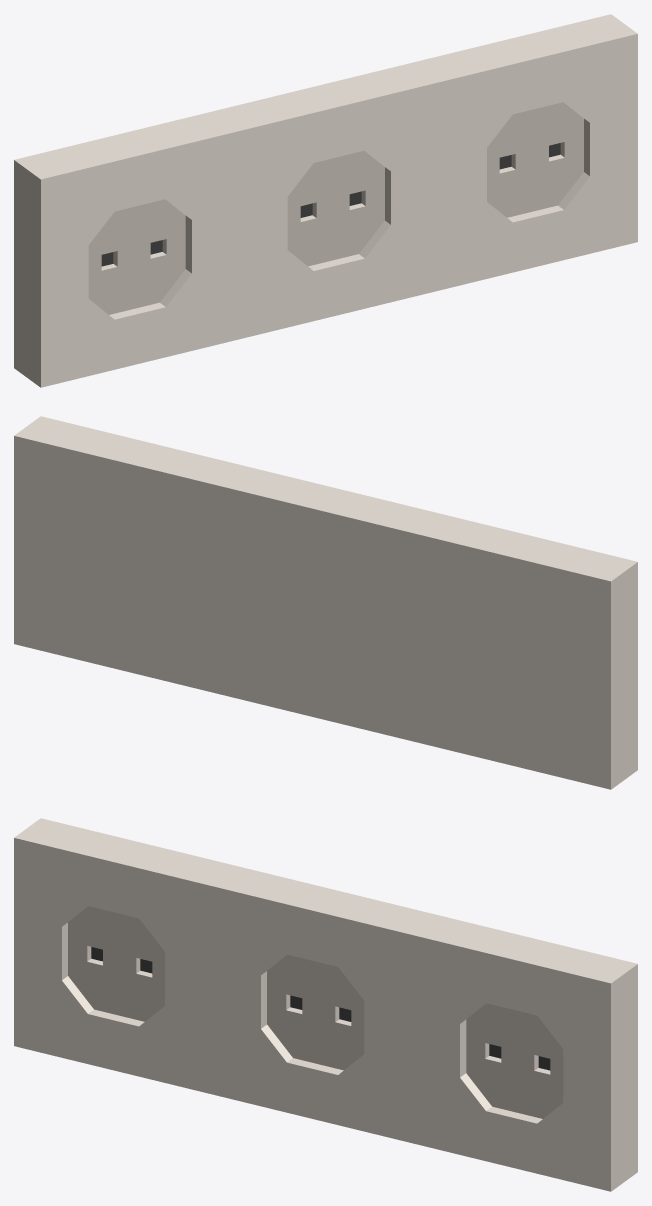
File: socket.fbx
The picture shows the model from 3 angles, top to bottom: view 1: azimuth 30°, elevation 25°; view 2: azimuth 150°, elevation 25°; view 3: azimuth 330°, elevation 25°; orthographic projection.
Visible parts, largest first — view 1: Socket3_C1; view 2: Socket3_C1; view 3: Socket3_C1.
Part boxes in pixels (left/top/right/bottom): Socket3_C1: left=14, top=14, right=637, bottom=387; Socket3_C1: left=14, top=416, right=637, bottom=789; Socket3_C1: left=14, top=818, right=637, bottom=1191.
Bounding box in the file's own units: 25.33 × 8.44 × 1.97.
